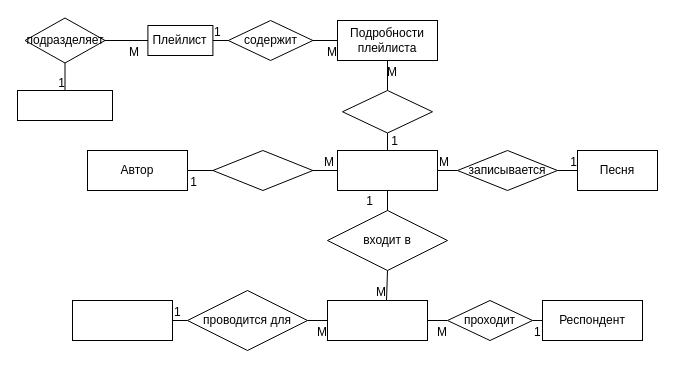
The diagram is 675 pixels wide and 368 high, and some of its shapes have lost their labels. Here are the shapes that lost their labels. From the top down, the centre of each, then its label:
pixel 64 105: Категория
pixel 387 111: содержится в
pixel 262 170: владеет
pixel 387 170: Композиция
pixel 122 320: Опрос
pixel 377 320: Результат опроса
